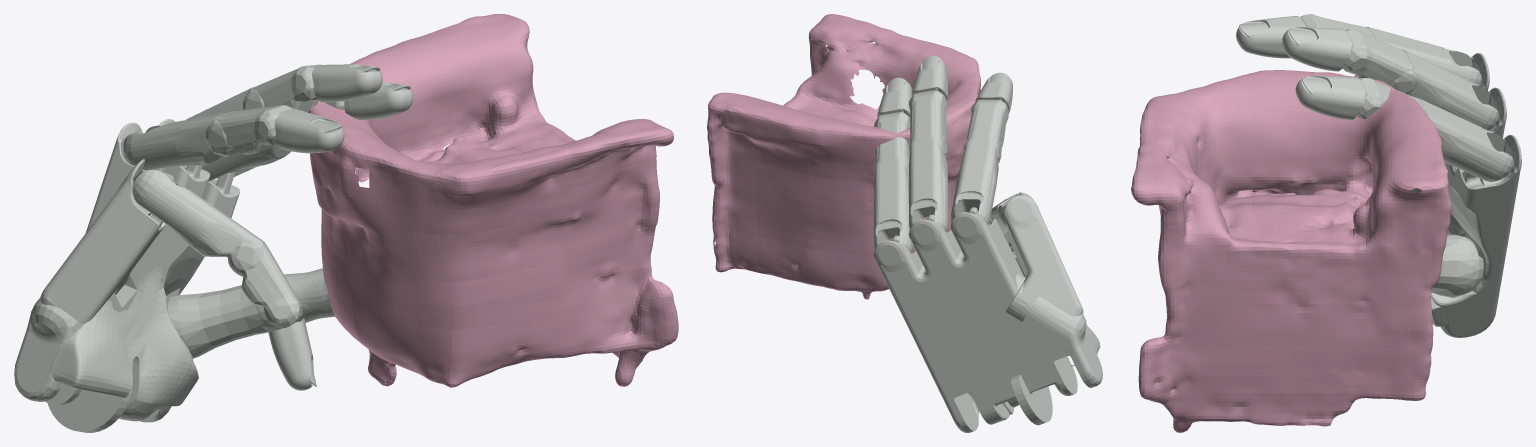
The picture shows the model from 3 angles, left to right: view 1: azimuth 30°, elevation 25°; view 2: azimuth 150°, elevation 25°; view 3: azimuth 270°, elevation 25°; orthographic projection. The views are drawn at different scales.
Parts seen in each view (by area): view 1: world, hand; view 2: hand, world; view 3: world, hand.
Part boxes in pixels (bbox=[...]): world: bbox=[308, 14, 678, 387]; hand: bbox=[14, 64, 412, 432]; hand: bbox=[873, 55, 1102, 432]; world: bbox=[707, 14, 980, 299]; world: bbox=[1131, 70, 1451, 432]; hand: bbox=[1236, 14, 1521, 337].
Size of the model in its own units: 0.2307 by 0.1659 by 0.1587.
